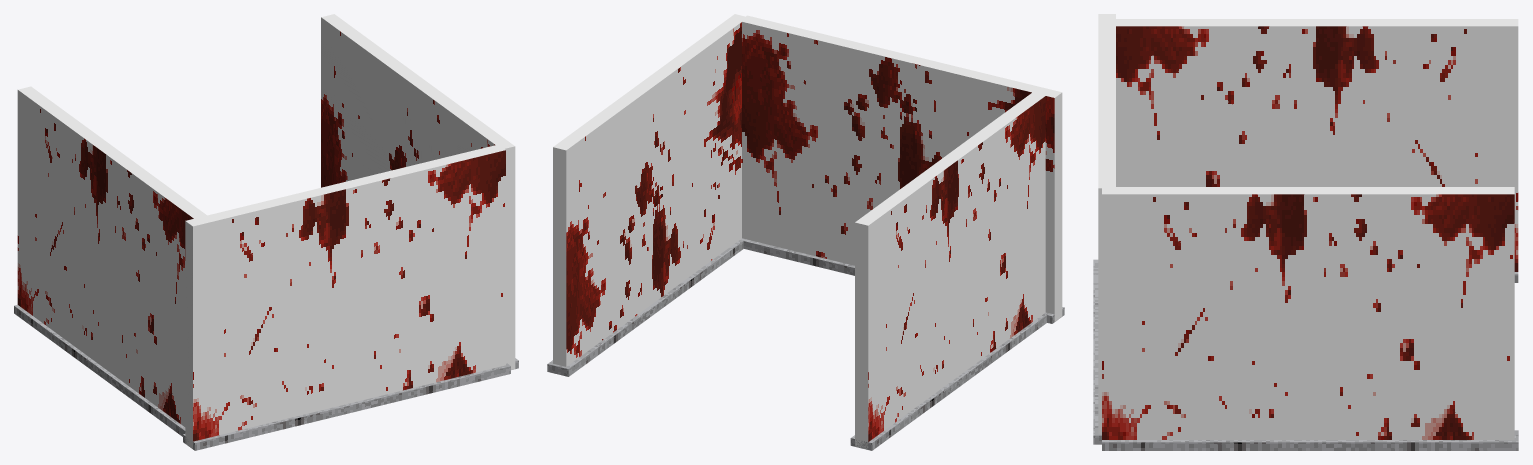
The model's file is walls.glb.
3 views of the same model, side by side, from view 1: azimuth 30°, elevation 25°; view 2: azimuth 150°, elevation 25°; view 3: azimuth 270°, elevation 25° (orthographic). The views are drawn at different scales.
Visible parts, largest first — view 1: walls.002, walls.001; view 2: walls.002, walls.001; view 3: walls.002, walls.001.
Part boxes in pixels (left/top/right/bottom): walls.002: left=183, top=14, right=518, bottom=450; walls.001: left=14, top=86, right=211, bottom=436; walls.002: left=547, top=14, right=1064, bottom=376; walls.001: left=850, top=89, right=1049, bottom=450; walls.002: left=1093, top=14, right=1518, bottom=450; walls.001: left=1105, top=19, right=1518, bottom=282.
Bounding box in the file's own units: 7.44 × 4.84 × 7.32.
Materials: 2 (2 with a texture image).
